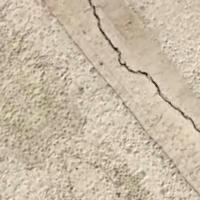crack: (74, 0, 199, 143)
